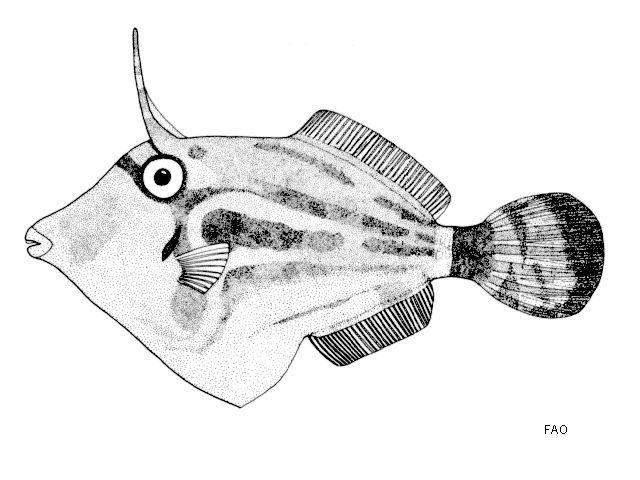fish: (24, 29, 607, 409)
